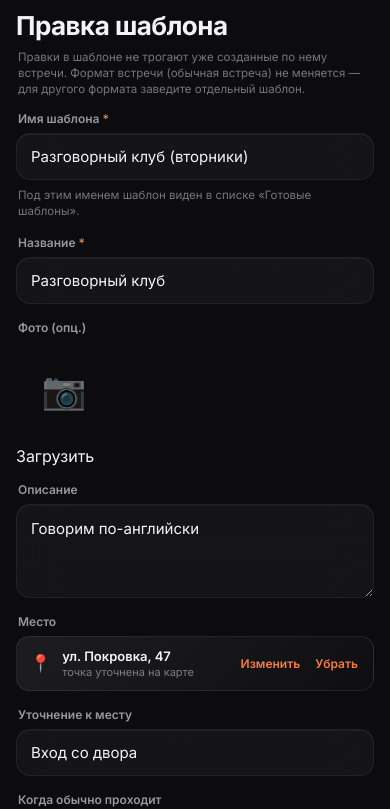
Test: EditEventTemplatePage › пустое имя шаблона не сохраняется
Clear the field showing "Разговорный клуб (вторники)": x=195, y=157 [16,133,374,180]
(page scrolled)
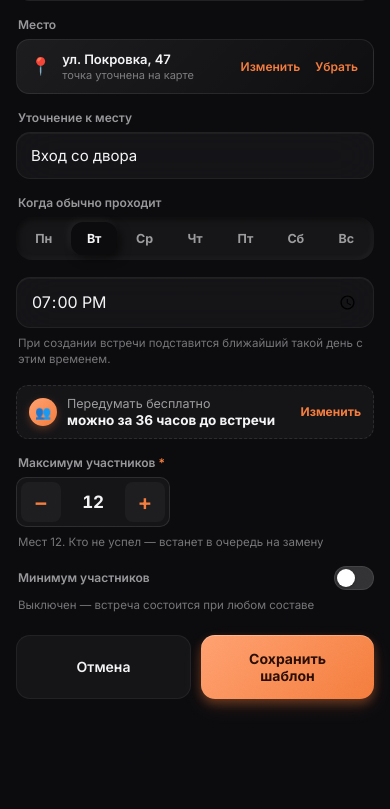
Click the button "Сохранить шаблон": x=288, y=667 [201,635,374,699]
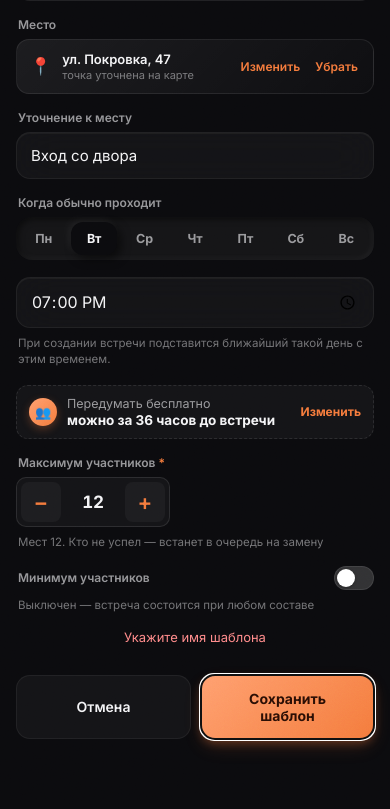
Now the text "Укажите имя шаблона" is shown, box [124,629,266,645]
